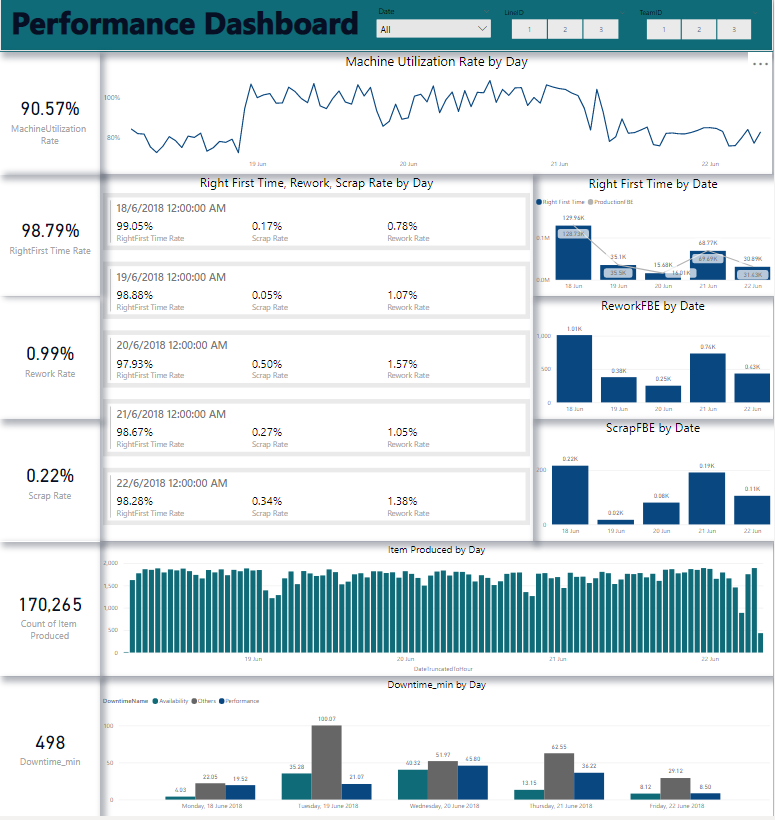

The dashboard page shown, as its layout file describes it:
{"tool":"powerbi","page":{"name":"Dashboard","canvas":[1350,1430],"ordinal":0},"visuals":[{"type":"textbox","box":[0,0.9,1350,93.7],"z":0},{"type":"multiRowCard","title":"Right First Time, Rework, Scrap Rate by Day","fields":{"Values":["DBRightFirstTime.Date.Variation.Date Hierarchy.Day","DBRightFirstTime.RFT Rate","DBRightFirstTime.Scrap Rate","DBRightFirstTime.Rework Rate"]},"box":[174.6,309.5,755.9,641.3],"z":1000},{"type":"card","title":"Right First Time by Day and Line ID","fields":{"Values":["DBRightFirstTime.RFT Rate"]},"box":[0,310.8,174.6,211.3],"z":2000},{"type":"slicer","fields":{"Values":["Line Table.LineID"]},"box":[867,14,236,66],"z":3000},{"type":"slicer","fields":{"Values":["Team Table.TeamID"]},"box":[1103,14,232,67],"z":4000},{"type":"lineChart","title":"Machine Utilization Rate by Day","fields":{"Category":["DBMachineUtilization1.Date"],"Y":["DBMachineUtilization1.MU Rate"]},"box":[174.6,96.1,1174.4,213.4],"z":5000},{"type":"card","fields":{"Values":["DBRightFirstTime.Rework Rate"]},"box":[0,523.8,174.6,213],"z":6000},{"type":"card","fields":{"Values":["DBMachineUtilization1.Machine Utilization Rate"]},"box":[0,95.7,174.4,213.7],"z":7000},{"type":"slicer","fields":{"Values":["DateTime.Date"]},"box":[648,10,219,74],"z":8000},{"type":"card","fields":{"Values":["DBRightFirstTime.Scrap Rate"]},"box":[0,736.8,174.4,213.7],"z":9000},{"type":"clusteredColumnChart","title":"Item Produced by Day","fields":{"Category":["DBProduction.DateTruncatedToHour"],"Y":["CountNonNull(DBProduction.Item Produced)"]},"box":[174.6,951.6,1175.1,234],"z":10000},{"type":"card","fields":{"Values":["CountNonNull(DBProduction.Item)"]},"box":[0,950.4,174.4,235.9],"z":11000},{"type":"card","fields":{"Values":["Sum(DBDowntime.Downtime_min)"]},"box":[0,1186.4,174.6,243.9],"z":12000},{"type":"clusteredColumnChart","title":"Downtime_min by Day","fields":{"Category":["DBDowntime.Date"],"Y":["Sum(DBDowntime.Downtime_min)"],"Series":["DBDowntime.DowntimeName"]},"box":[174.6,1187.4,1175.4,243],"z":13000},{"type":"clusteredColumnChart","fields":{"Category":["DBRightFirstTime.Date"],"Y":["Sum(DBRightFirstTime.ReworkFBE)"]},"box":[930.6,523.8,419,213],"z":14000},{"type":"columnChart","fields":{"Y":["Sum(DBRightFirstTime.ScrapFBE)"],"Category":["DBRightFirstTime.Date Hierarchy.Date"]},"box":[930.5,736.4,419.5,213.4],"z":15000},{"type":"lineClusteredColumnComboChart","title":"Right First Time by Date","fields":{"Category":["DBRightFirstTime.Date"],"Y":["Sum(DBRightFirstTime.Right First Time)"],"Y2":["Sum(DBRightFirstTime.ProductionFBE)"]},"box":[930.5,311.4,419.5,211.6],"z":16000}]}

Visuals, with their boxes in screenshot pixels (x1, y1, x2, y2), scaled from the page's 1350x1430 canvas onto the 775x820 screenshot:
textbox: 0, 1, 774, 54
"Right First Time, Rework, Scrap Rate by Day" multiRowCard: 100, 177, 534, 545
"Right First Time by Day and Line ID" card: 0, 178, 100, 299
slicer - Line Table.LineID: 498, 8, 633, 46
slicer - Team Table.TeamID: 633, 8, 766, 46
"Machine Utilization Rate by Day" lineChart: 100, 55, 774, 177
card - DBRightFirstTime.Rework Rate: 0, 300, 100, 423
card - DBMachineUtilization1.Machine Utilization Rate: 0, 55, 100, 177
slicer - DateTime.Date: 372, 6, 498, 48
card - DBRightFirstTime.Scrap Rate: 0, 423, 100, 545
"Item Produced by Day" clusteredColumnChart: 100, 546, 774, 680
card - CountNonNull(DBProduction.Item): 0, 545, 100, 680
card - Sum(DBDowntime.Downtime_min): 0, 680, 100, 819
"Downtime_min by Day" clusteredColumnChart: 100, 681, 774, 819
clusteredColumnChart - DBRightFirstTime.Date x Sum(DBRightFirstTime.ReworkFBE): 534, 300, 774, 423
columnChart - Sum(DBRightFirstTime.ScrapFBE) x DBRightFirstTime.Date Hierarchy.Date: 534, 422, 774, 545
"Right First Time by Date" lineClusteredColumnComboChart: 534, 179, 774, 300
